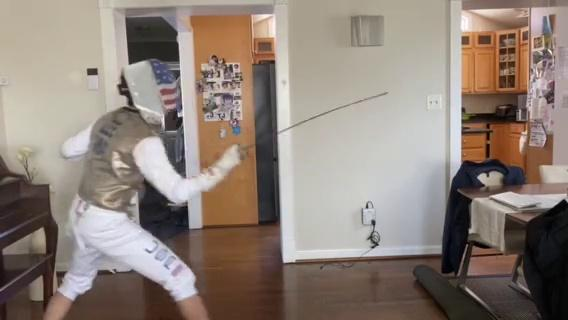blade-guard: (234, 141, 255, 161)
blade-tip: (346, 91, 393, 106)
fencing-blade: (221, 92, 392, 163)
